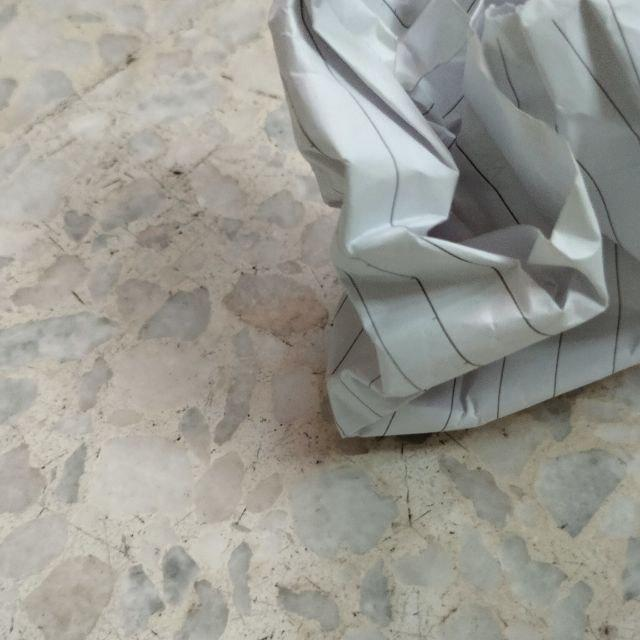paper: (228, 0, 640, 464)
